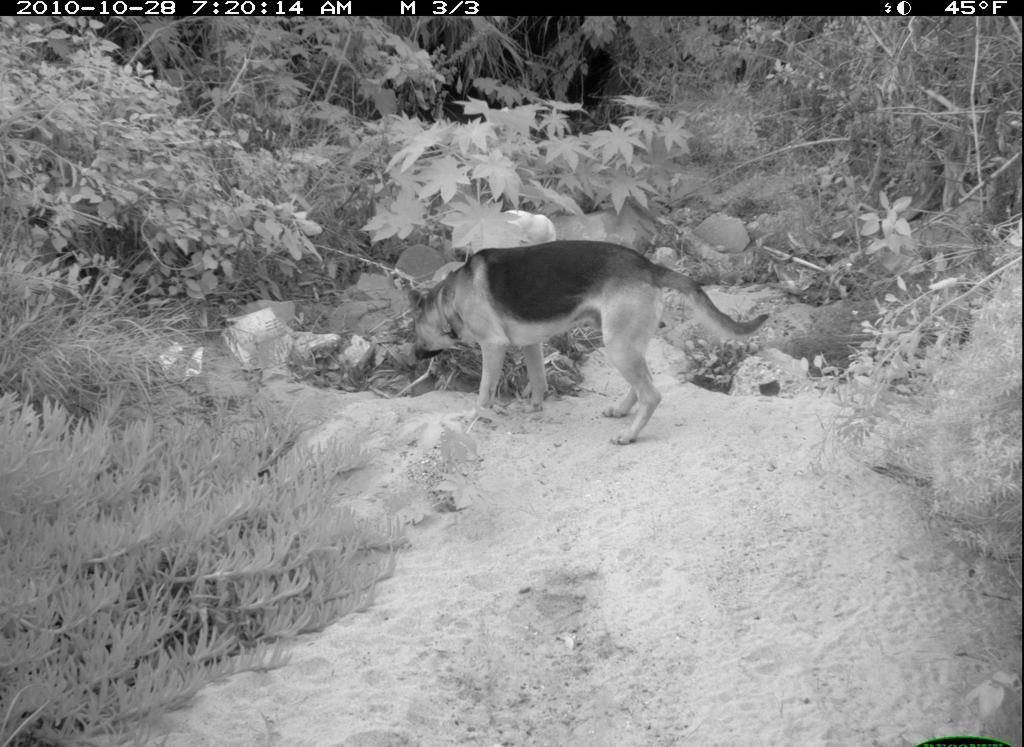dog: (402, 236, 779, 450)
